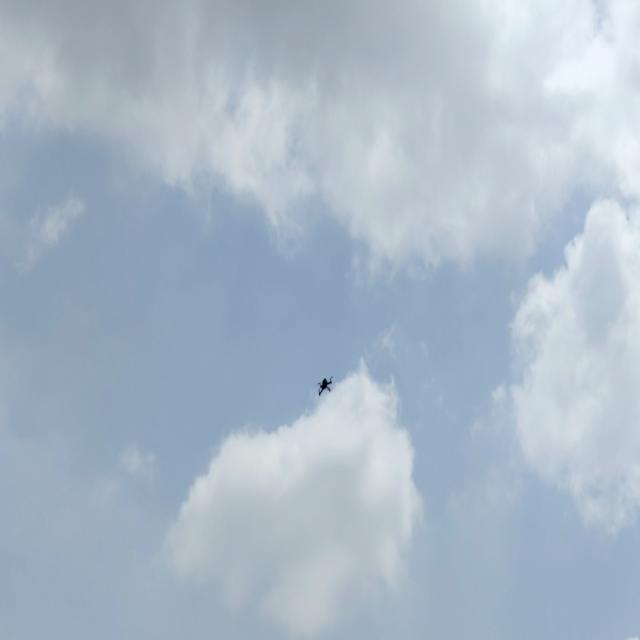drone: (314, 376, 336, 396)
